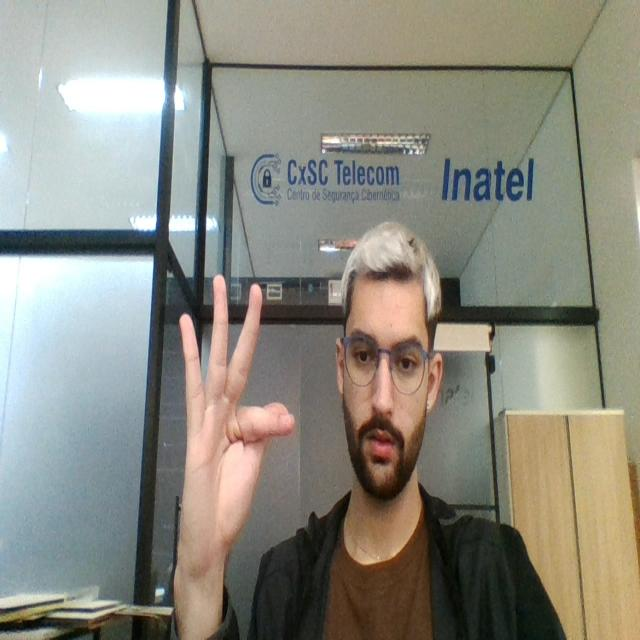F: (170, 263, 298, 569)
